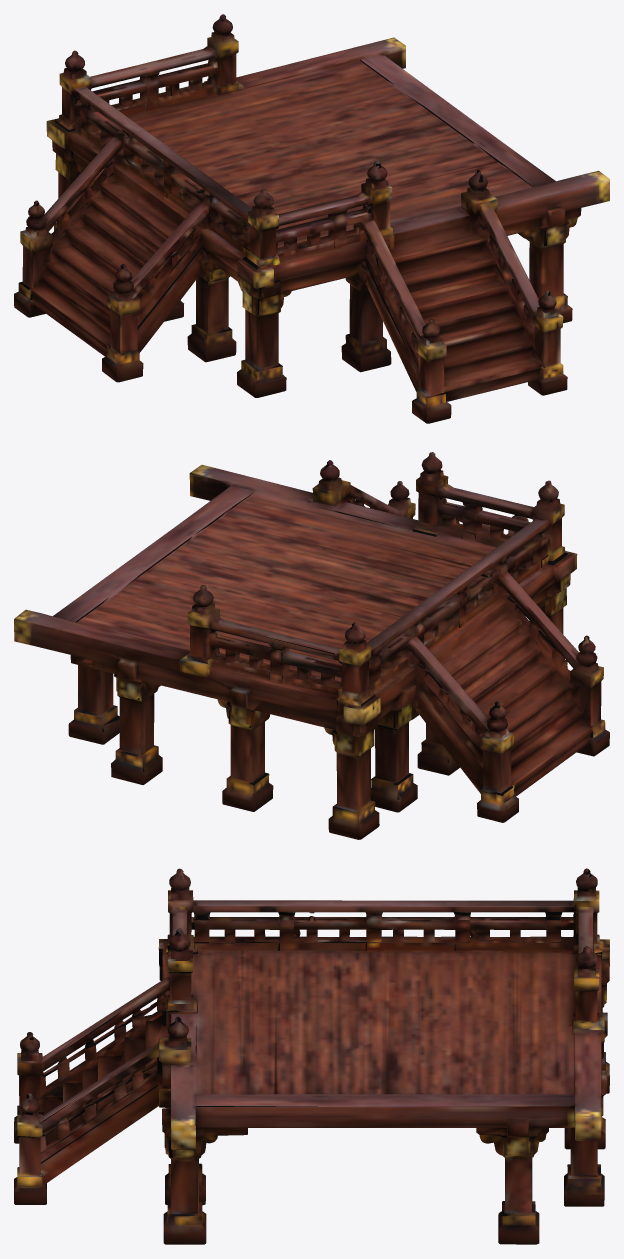
File: SingleStareBase_LOD2.fbx
3 views of the same model, one above another, from view 1: azimuth 30°, elevation 25°; view 2: azimuth 150°, elevation 25°; view 3: azimuth 270°, elevation 25° (orthographic). The views are drawn at different scales.
Visible parts, largest first — view 1: node_0.001; view 2: node_0.001; view 3: node_0.001.
Boxes of the visible parts, x1,y1,x2,y2 form: node_0.001: (14,14,609,423); node_0.001: (14,452,609,839); node_0.001: (14,868,609,1244).
Bounding box in the file's own units: 86.07 × 37.13 × 92.23.
1 material, 1 textured.
